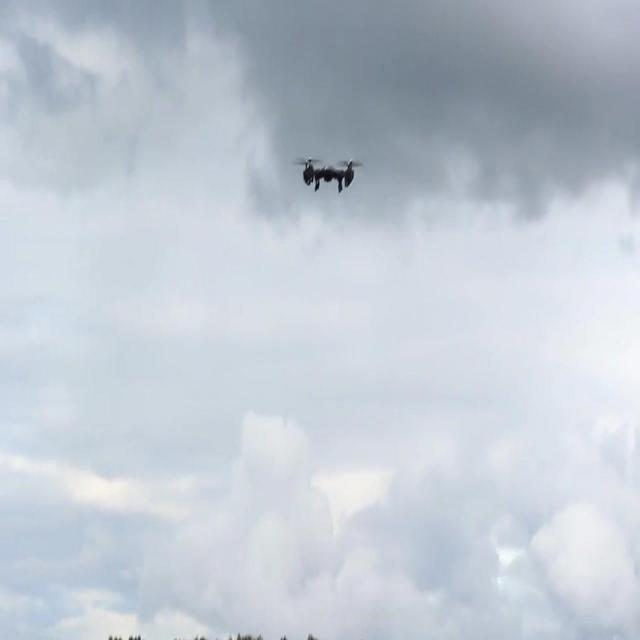UAV: (295, 152, 361, 195)
